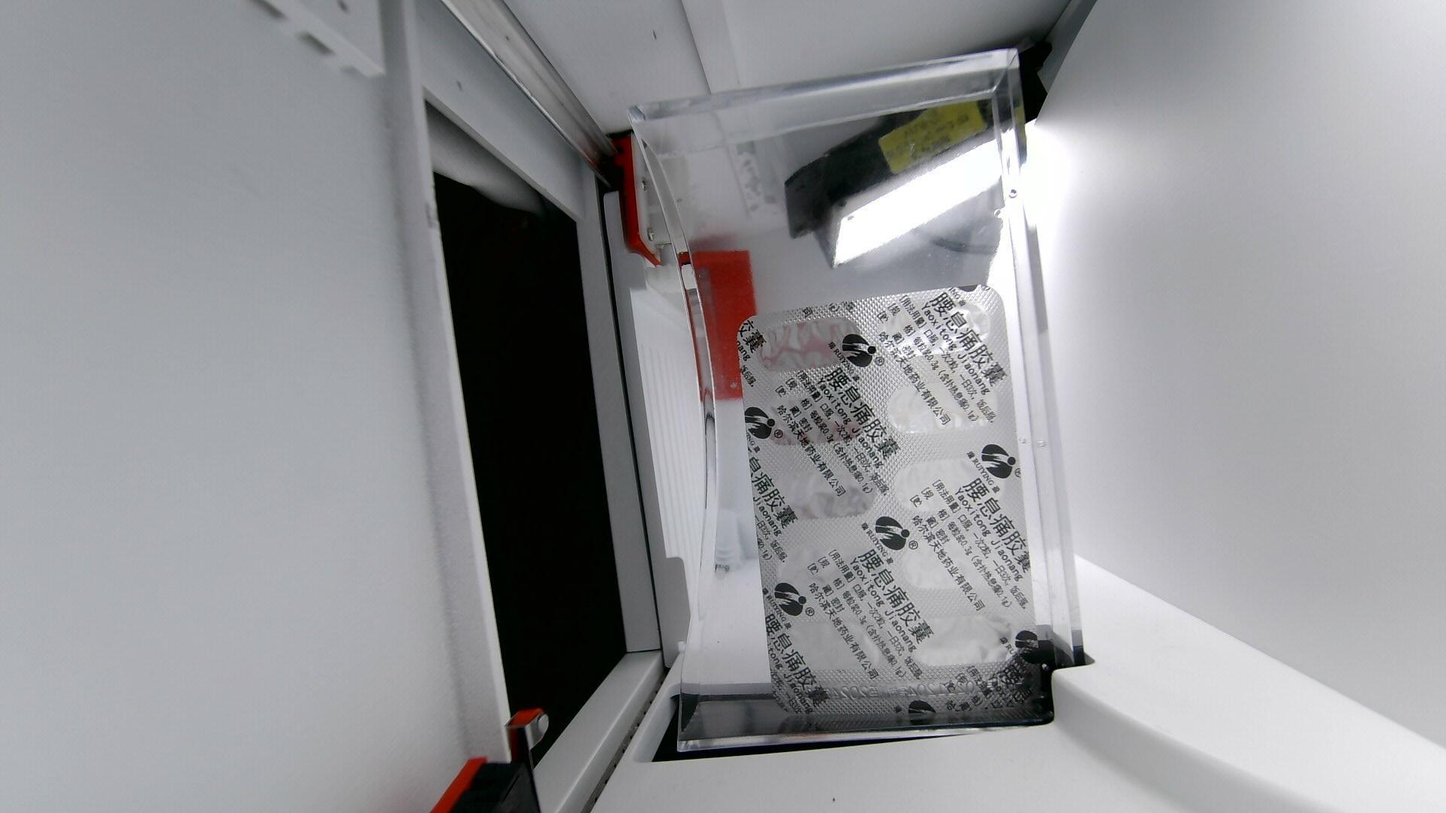Pill Back: (899, 603, 1023, 674), (754, 460, 883, 524), (891, 452, 1023, 513), (883, 374, 1005, 437), (776, 612, 880, 684), (753, 386, 871, 448), (903, 531, 1022, 592), (764, 543, 880, 604), (751, 319, 868, 370), (880, 303, 987, 355)
